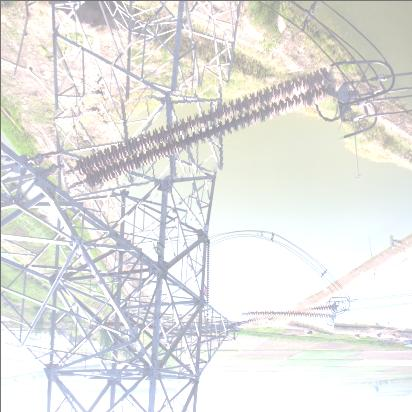insulator: (56, 77, 344, 184), (243, 300, 337, 330)
